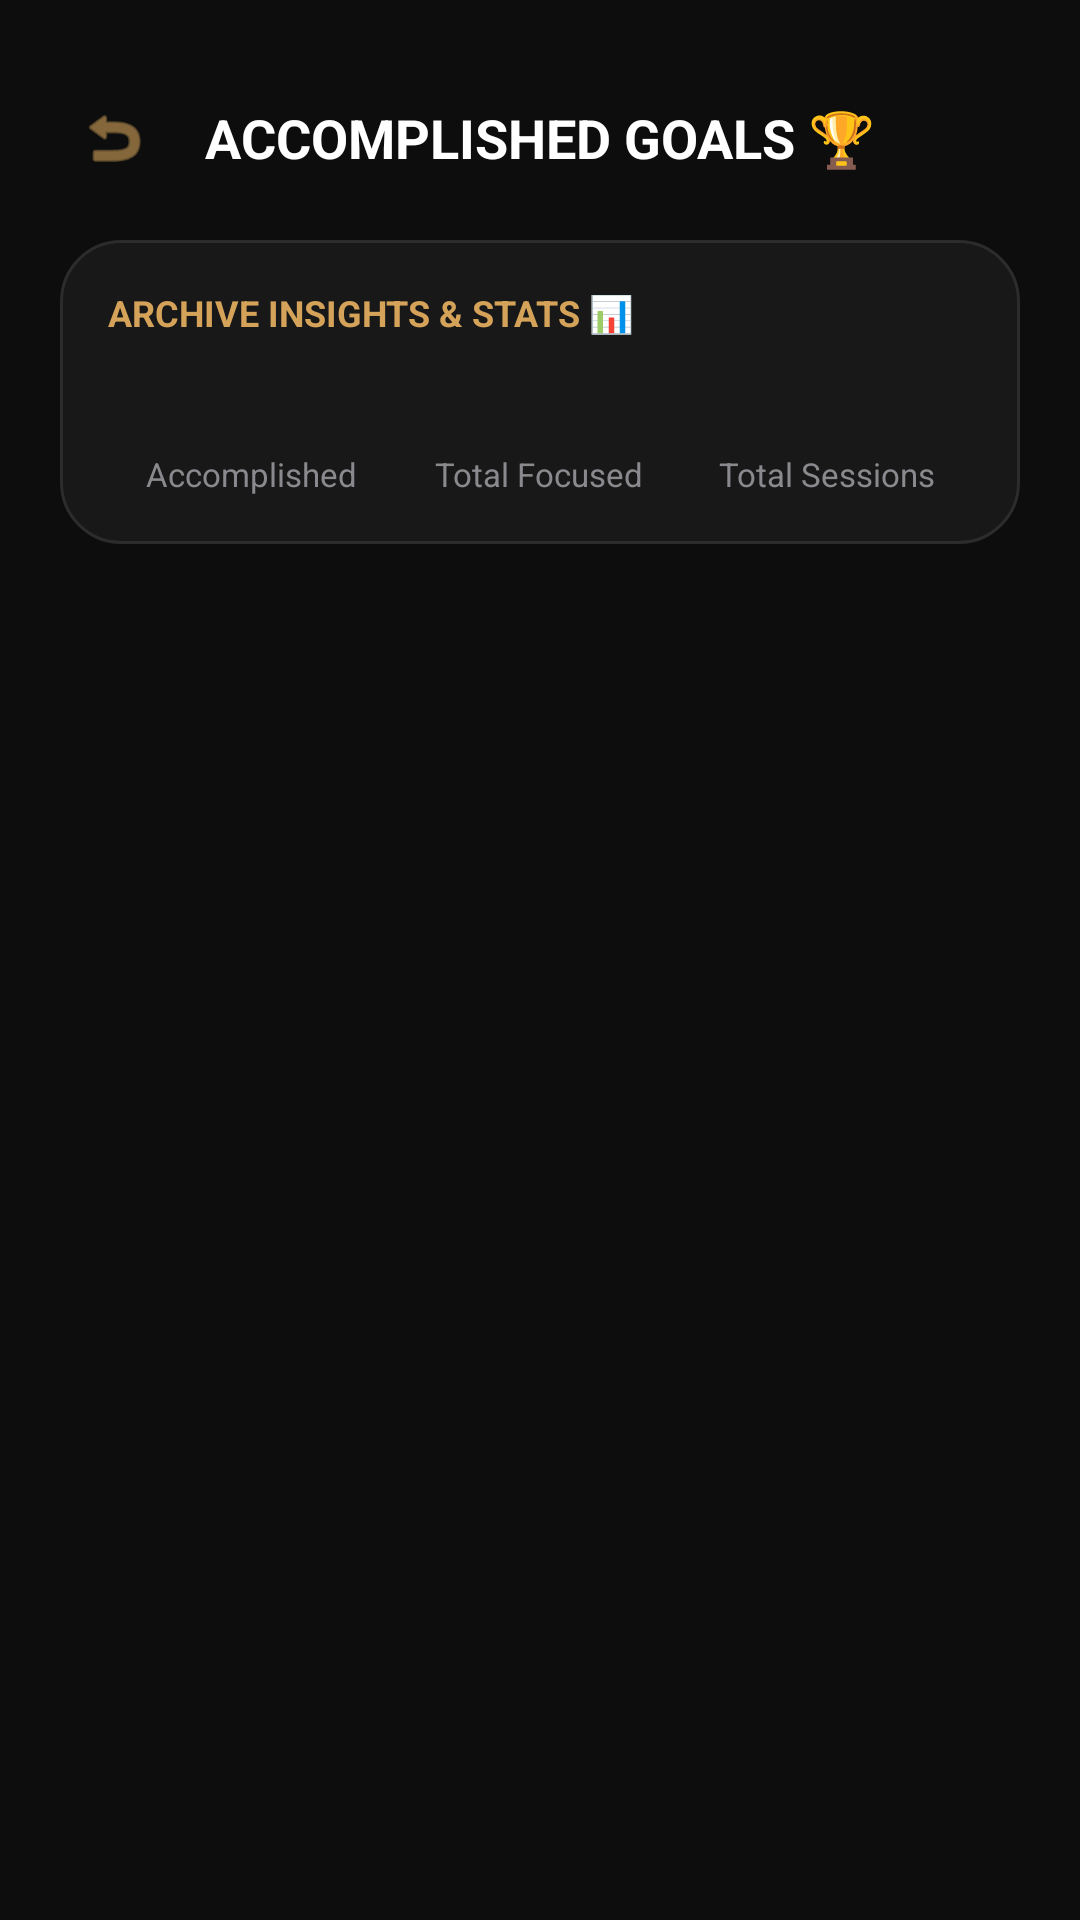

Where icons sit on this 1080px×1920px app screen, as [x1, y1, x2, y2]:
Back: [89, 115, 141, 162]
